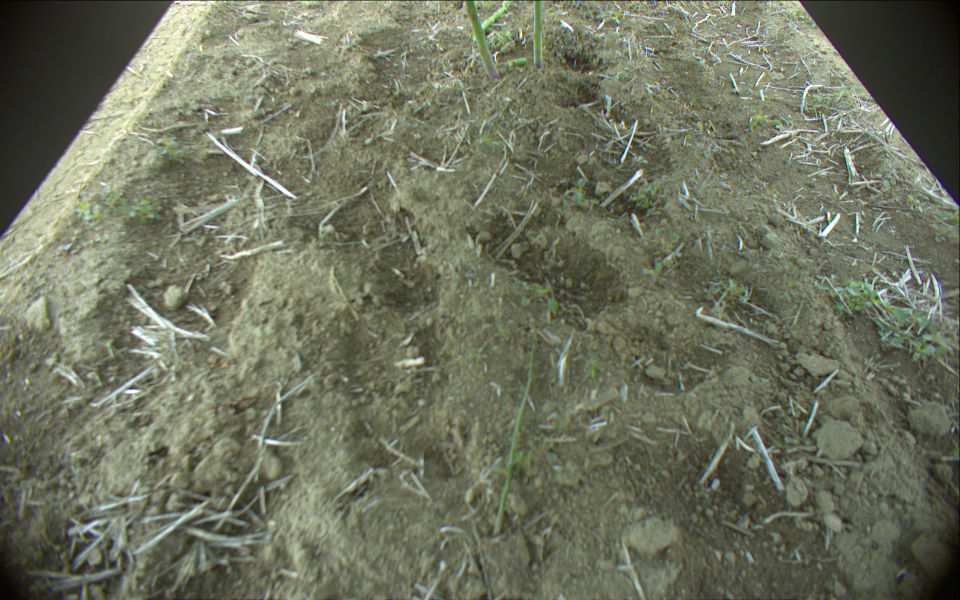aspa: (492, 324, 540, 537), (464, 1, 502, 78), (471, 1, 511, 41), (533, 1, 545, 66), (504, 56, 528, 70)
